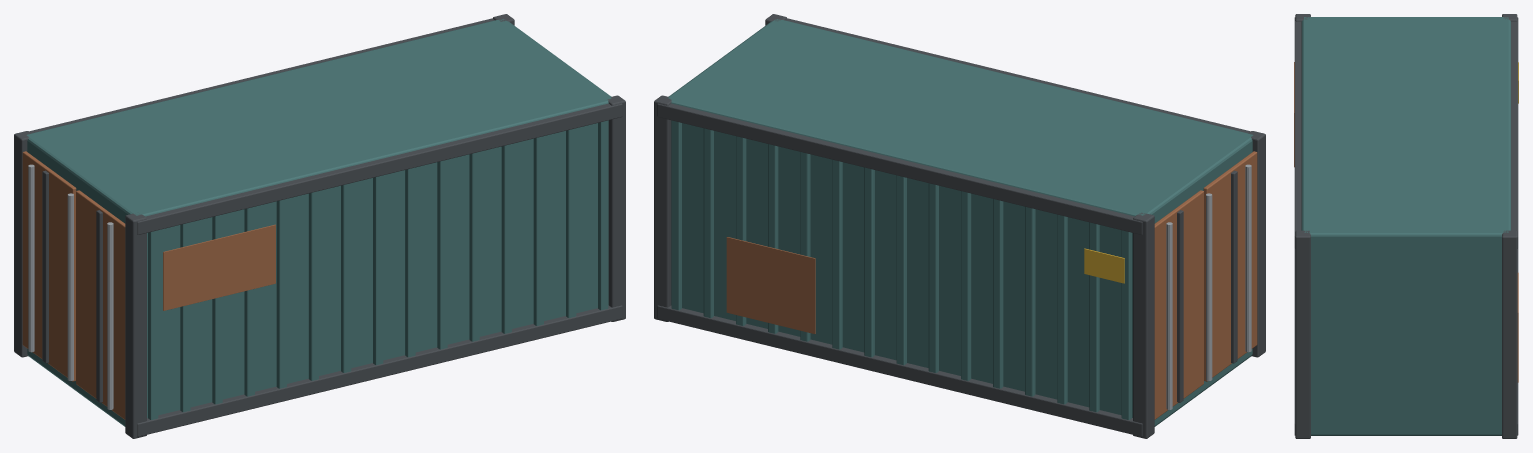
The model's file is container.glb.
3 views of the same model, side by side, from view 1: azimuth 30°, elevation 25°; view 2: azimuth 150°, elevation 25°; view 3: azimuth 270°, elevation 25° (orthographic). The views are drawn at different scales.
Visible parts, largest first — view 1: container; view 2: container; view 3: container.
Part boxes in pixels (x1=…): container: x1=14, y1=14, x2=625, y2=438; container: x1=654, y1=14, x2=1265, y2=438; container: x1=1294, y1=14, x2=1518, y2=438.
Bounding box in the file's own units: 6.2 × 2.6 × 2.61.
